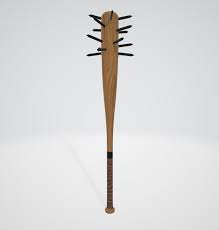baseball bat: (99, 10, 120, 216)
